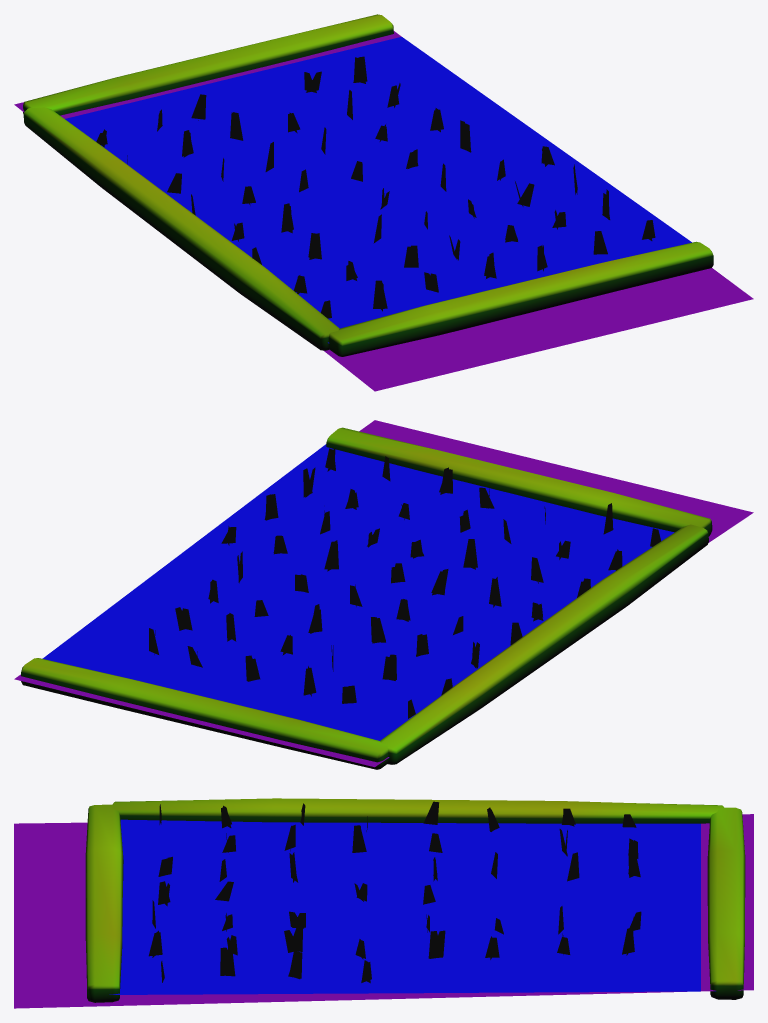
File: paddy_tread_4m.glb
The picture shows the model from 3 angles, top to bottom: view 1: azimuth 30°, elevation 25°; view 2: azimuth 150°, elevation 25°; view 3: azimuth 270°, elevation 25°; orthographic projection.
Visible parts, largest first — view 1: paddy_tread_4m; view 2: paddy_tread_4m; view 3: paddy_tread_4m.
Part boxes in pixels (x1,y1,x2,y2): paddy_tread_4m: (14,14,753,391); paddy_tread_4m: (14,420,753,769); paddy_tread_4m: (14,798,753,1008).
Size of what is drawn, in the model's own units: 4.07 by 0.4023 by 6.75.
